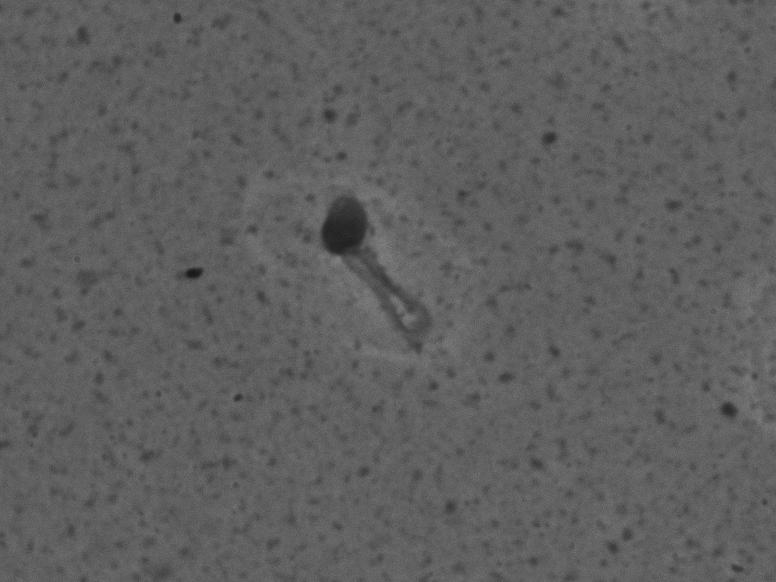Abnormal: (266, 131, 469, 380)
